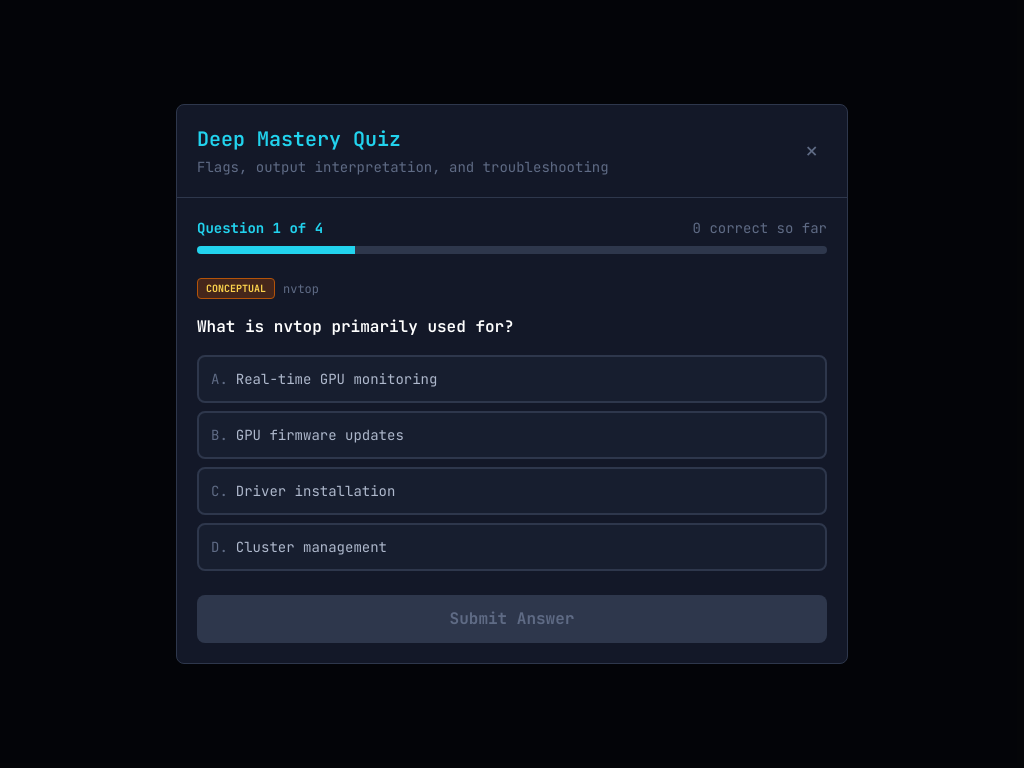
Test: ToolMasteryQuiz › enables submit after selecting an answer
Click the button "A.Real-time GPU monitoring": (337, 379) [197,355,827,403]
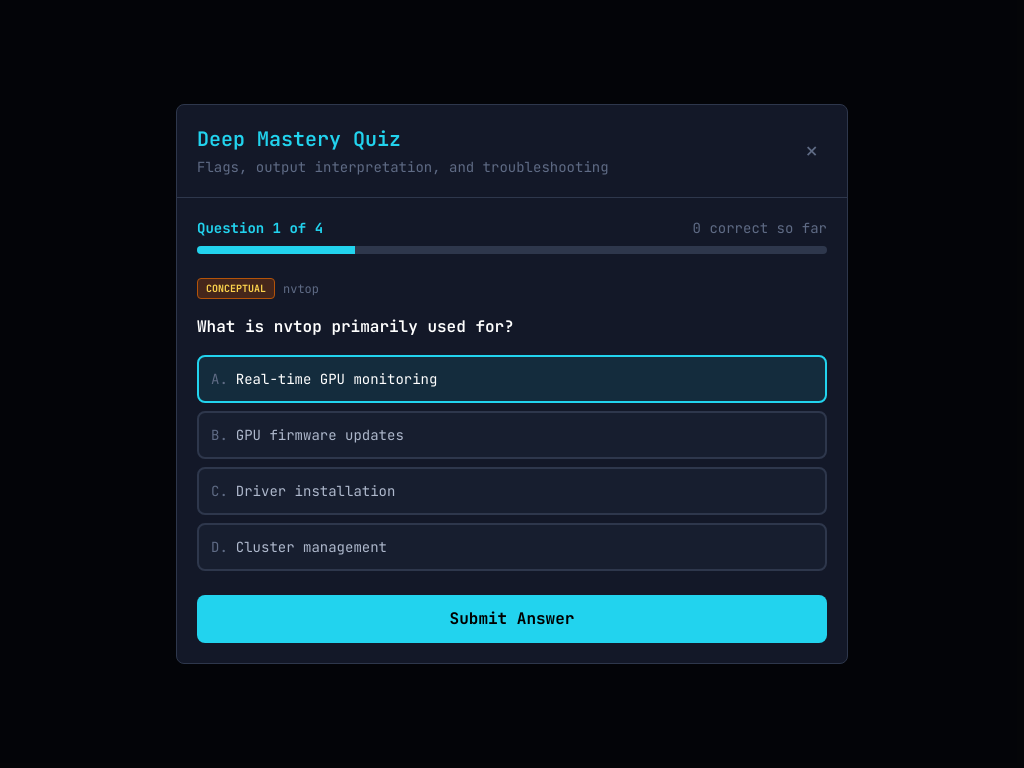
Check: the button "Submit Answer" is enabled, box [197,595,827,643]
